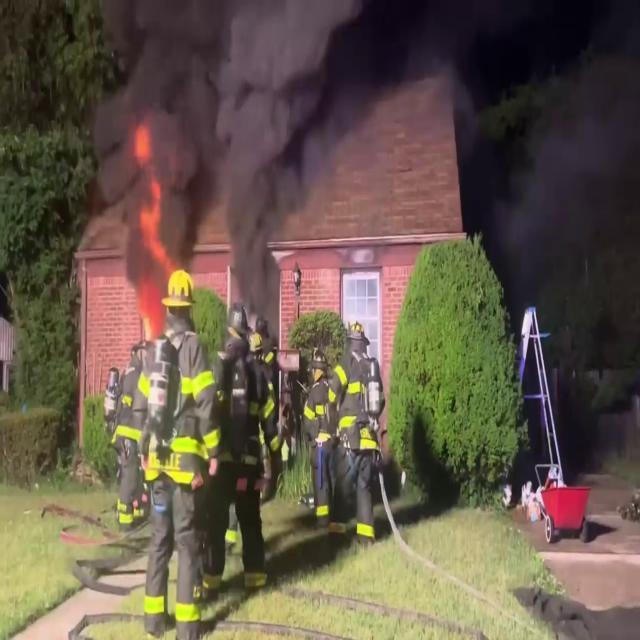Fire: (137, 250, 197, 316)
Smoke: (89, 0, 374, 270), (475, 2, 640, 436)
